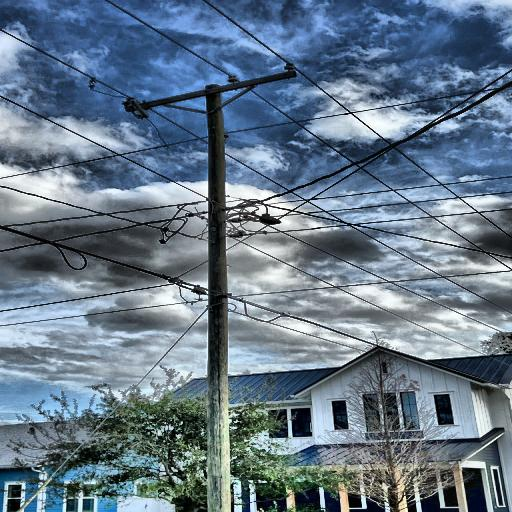pole: (190, 75, 246, 512)
